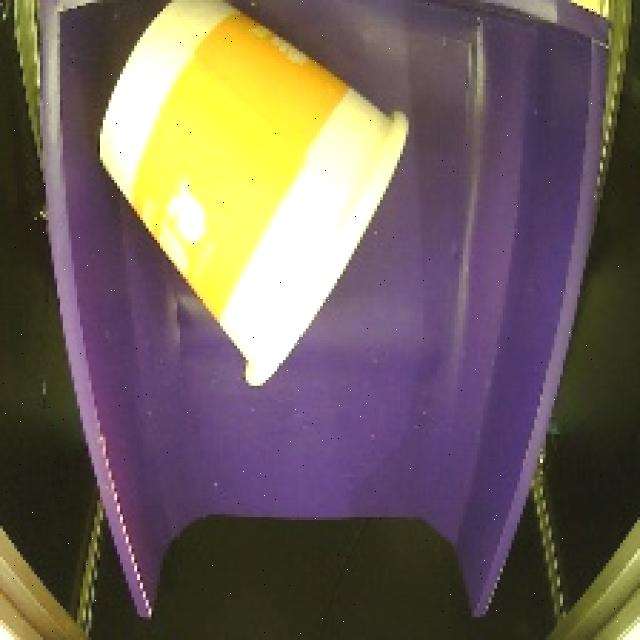cups: (88, 0, 430, 399)
